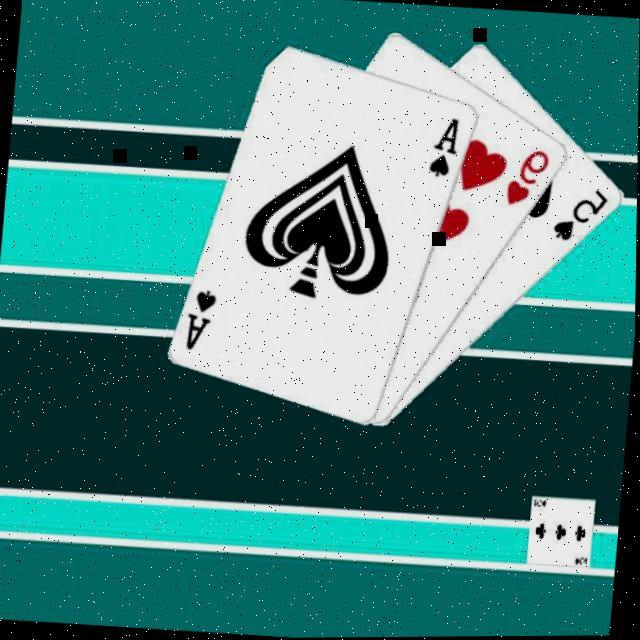5S: (550, 184, 614, 248)
9H: (504, 146, 556, 212)
AS: (184, 286, 223, 356), (426, 114, 466, 182)
